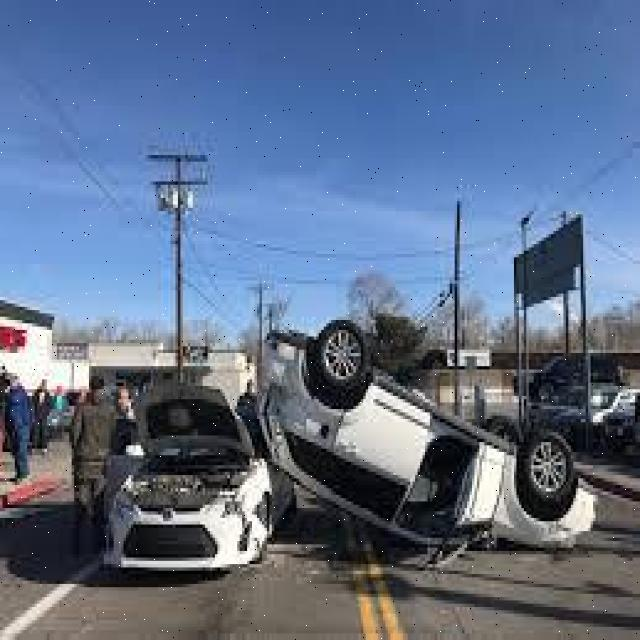severe: (102, 322, 606, 576)
